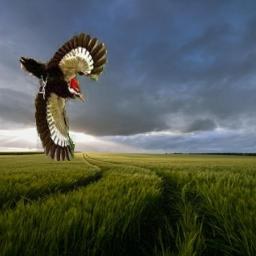Woodpecker: (19, 31, 109, 161)
